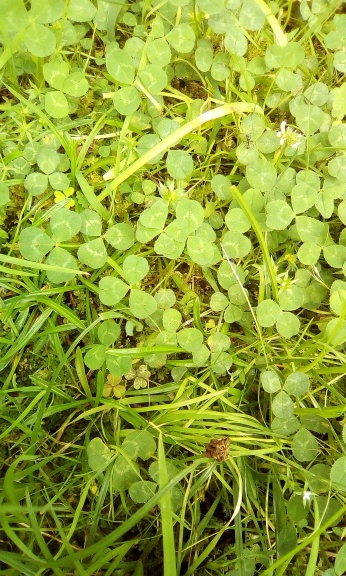4leaf: (135, 203, 188, 255)
